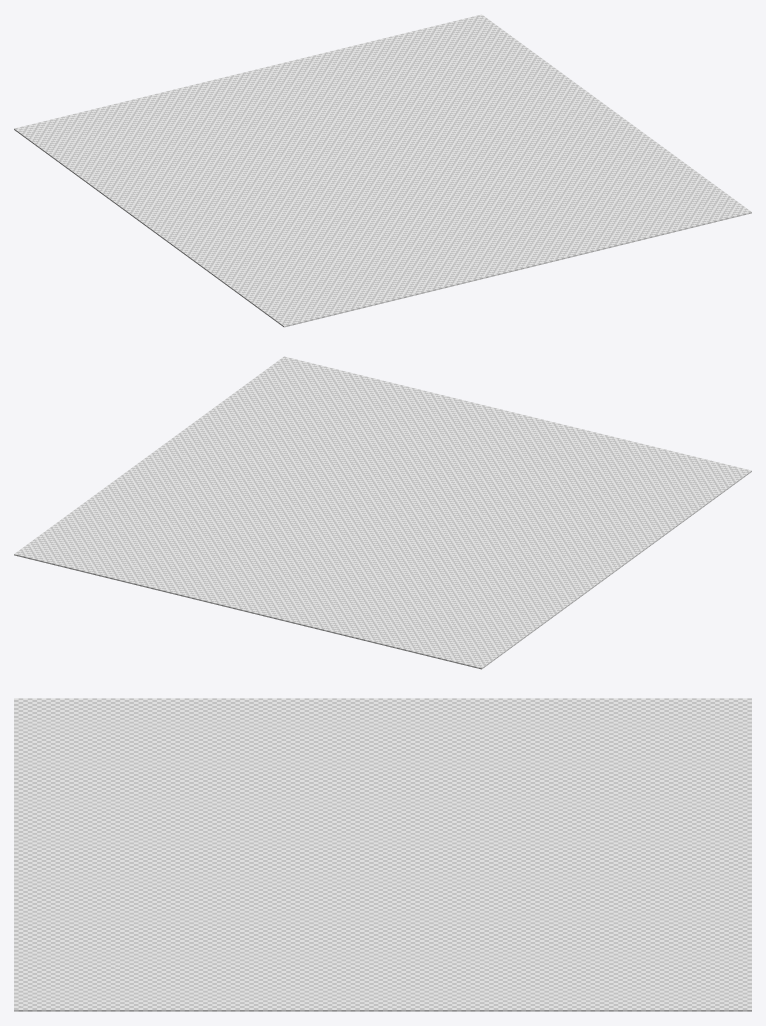
File: floortiled40x40.model.obj
3 views of the same model, one above another, from view 1: azimuth 30°, elevation 25°; view 2: azimuth 150°, elevation 25°; view 3: azimuth 270°, elevation 25° (orthographic). The views are drawn at different scales.
Size of the model in its own units: 40 by 0.1 by 40.
1 material, 1 textured.
